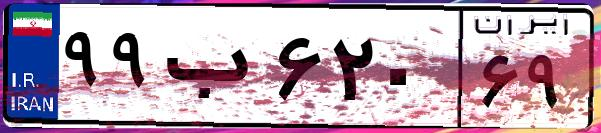0: (385, 28, 445, 110)
2: (330, 28, 385, 110)
6: (270, 28, 330, 110), (475, 38, 525, 113)
9: (57, 26, 110, 100), (525, 38, 570, 115), (110, 28, 158, 98)
ب: (158, 20, 270, 120)
